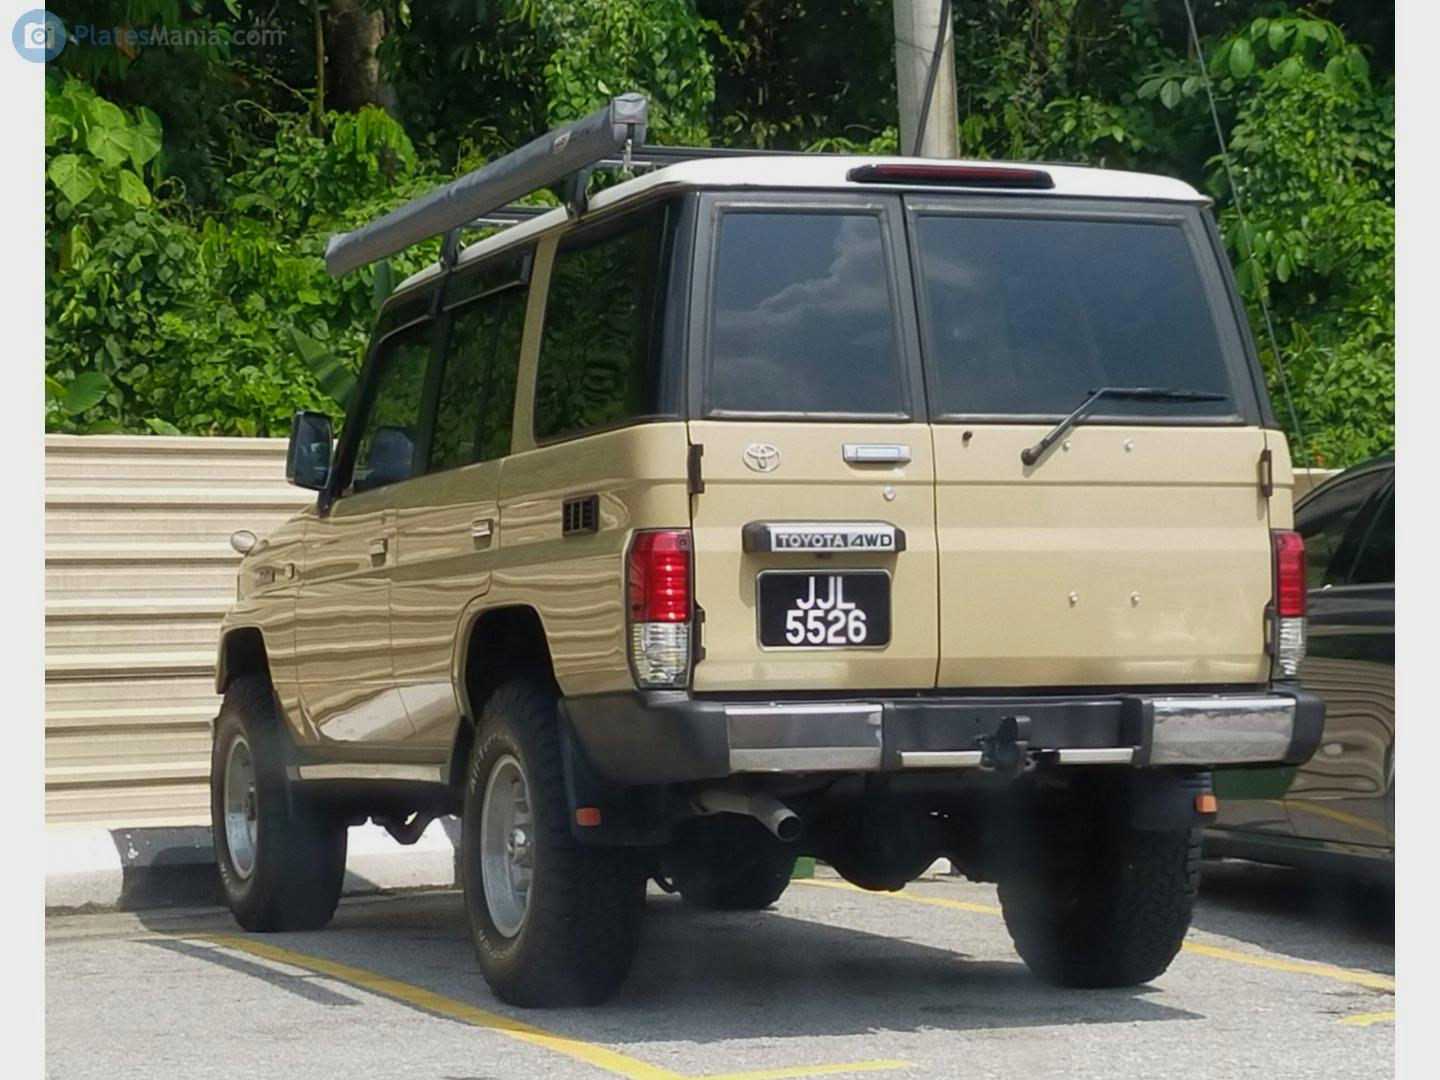License Plate: (760, 572, 891, 650)
